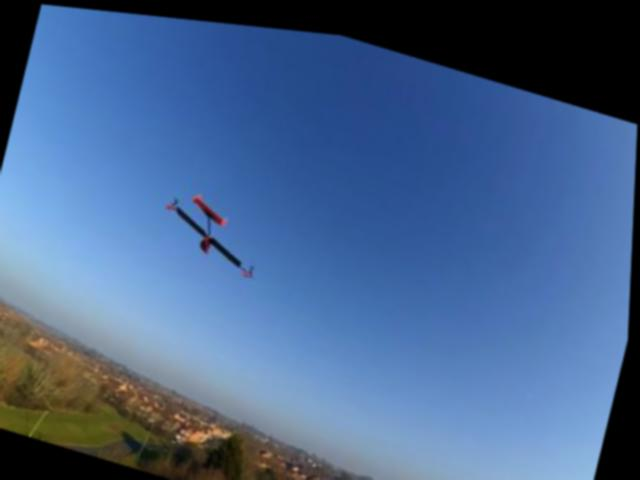uav: (149, 175, 276, 287)
